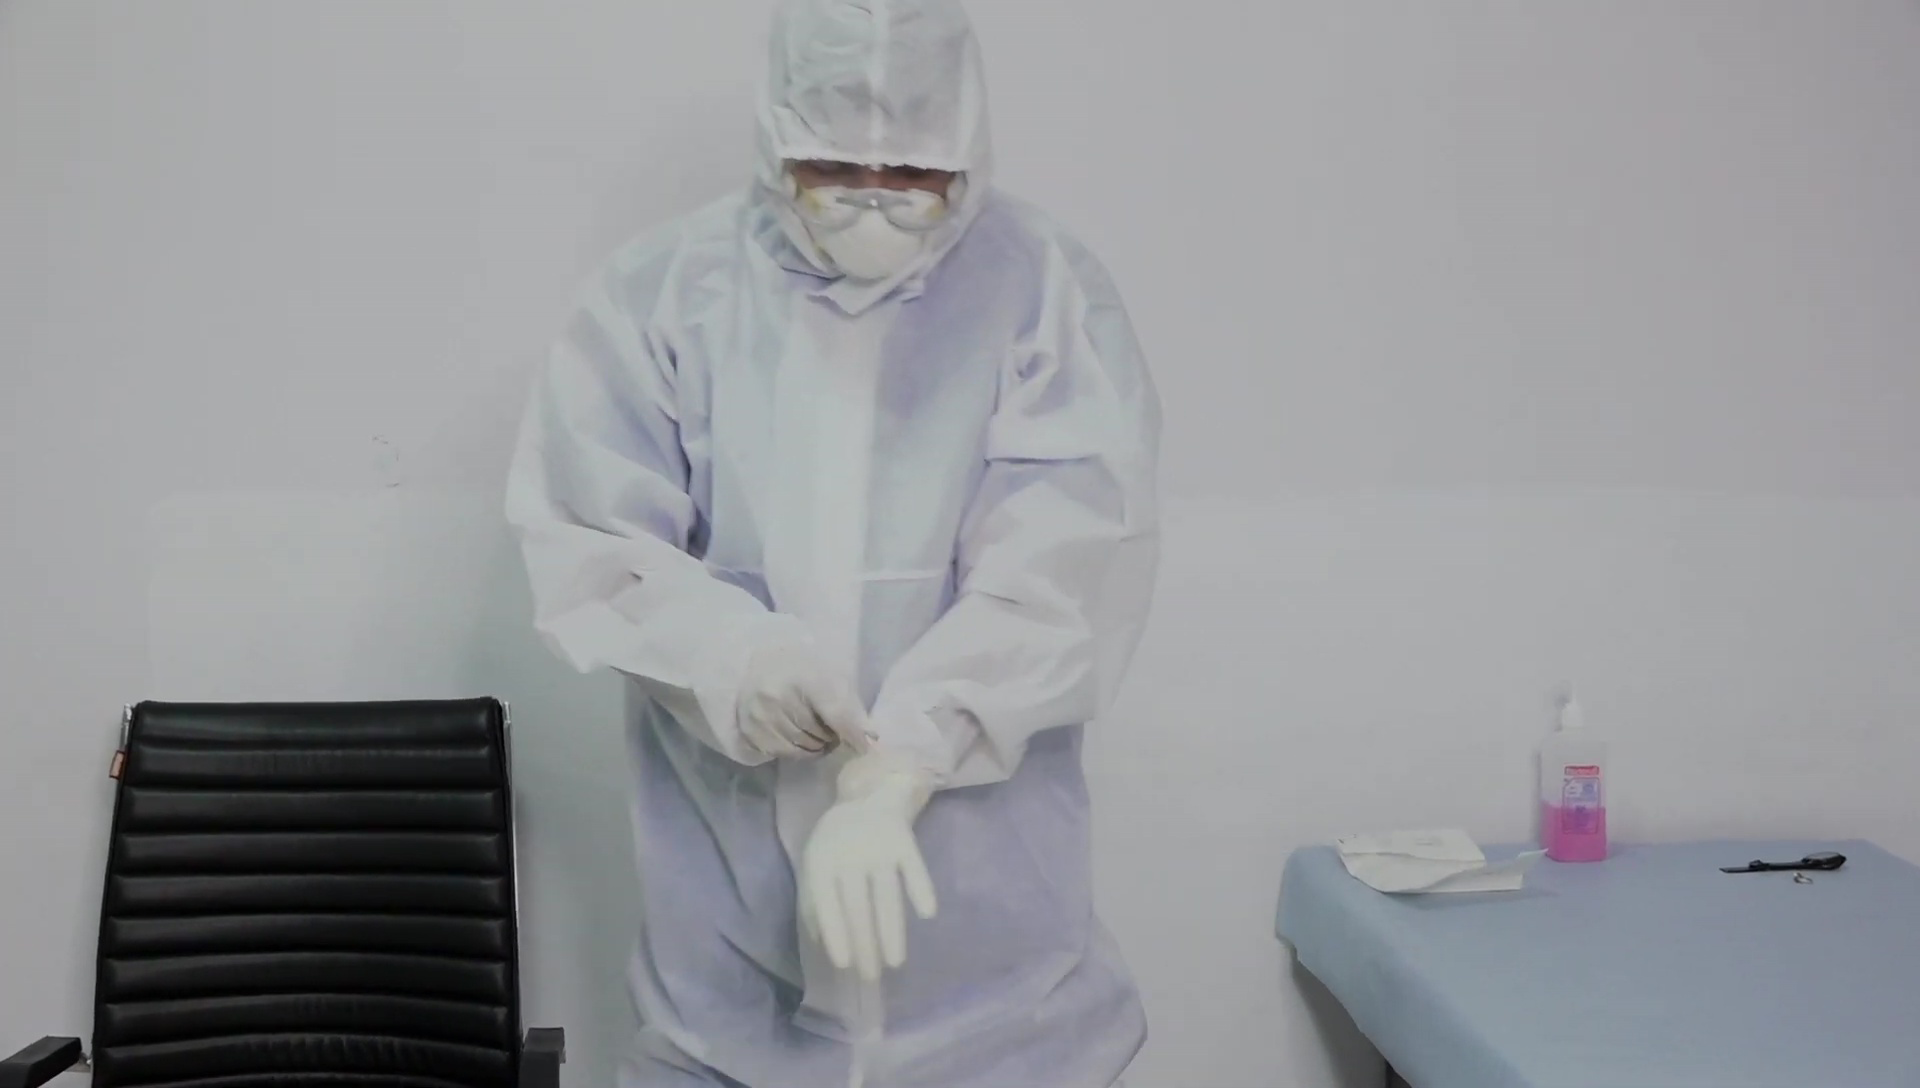Coverall: (505, 4, 1164, 1083)
Gloves: (800, 753, 939, 978), (735, 628, 883, 762)
Goggles: (782, 145, 971, 240)
with_mask: (800, 185, 935, 282)
